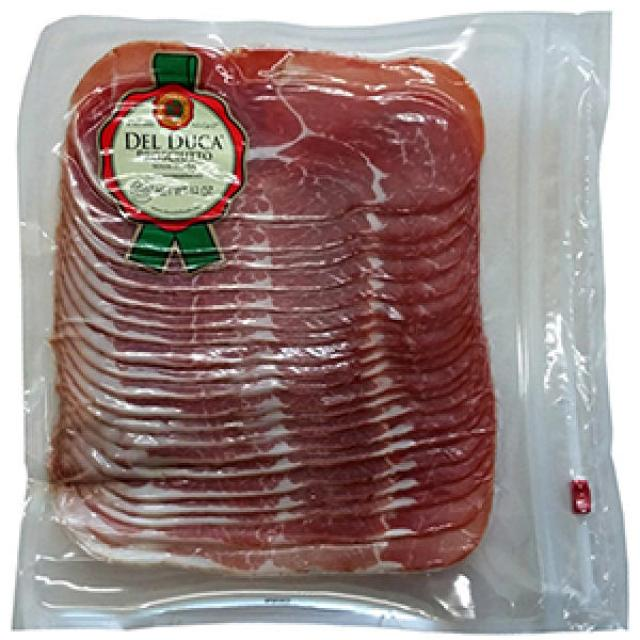pork: (14, 18, 534, 640)
